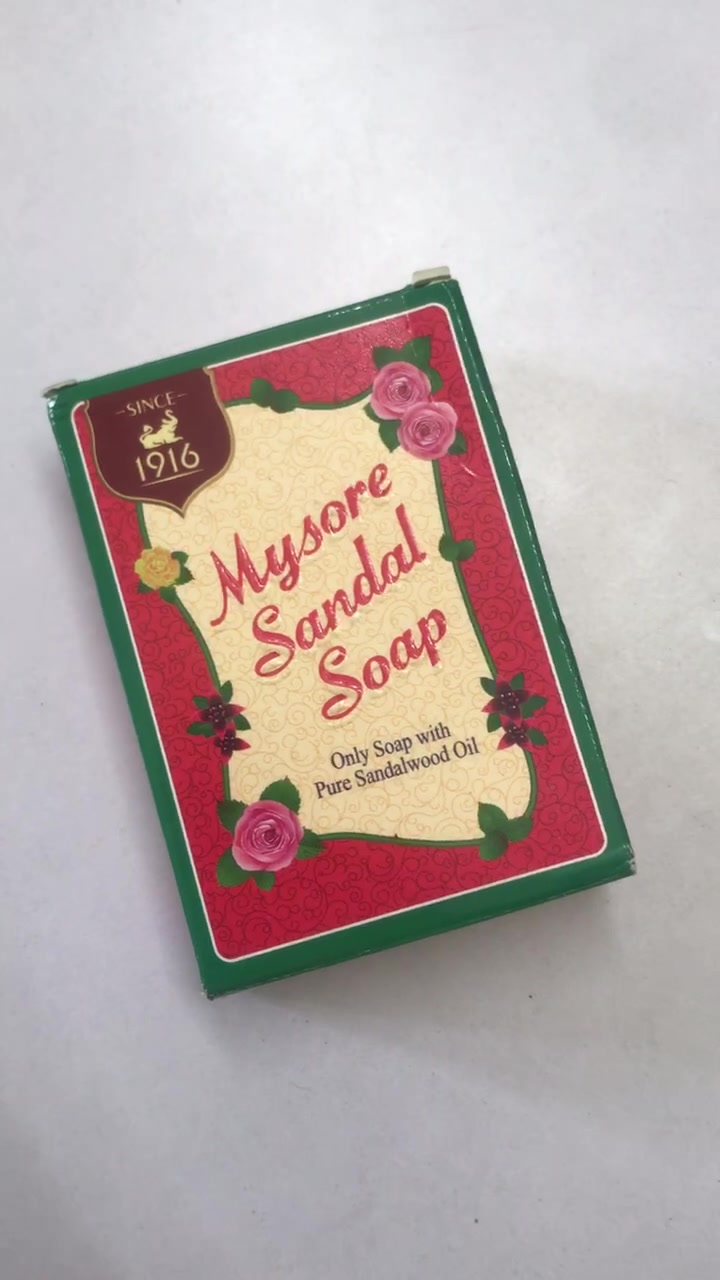mysore sandal soap: (48, 280, 633, 998)
